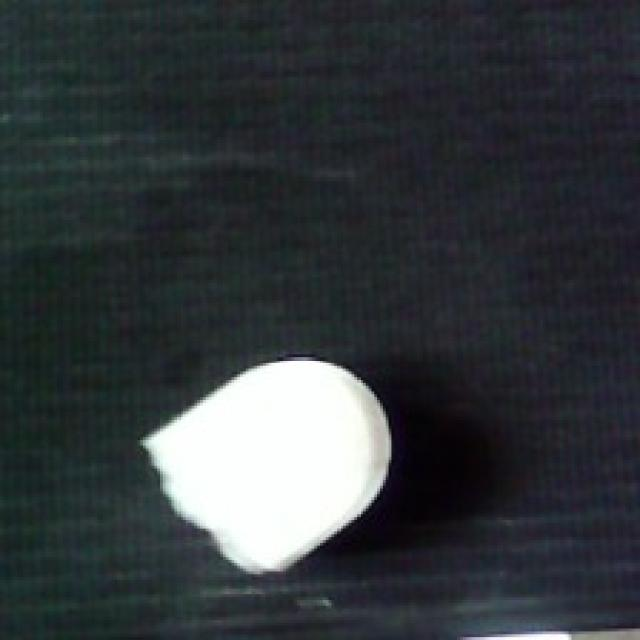defected: (128, 351, 403, 580)
